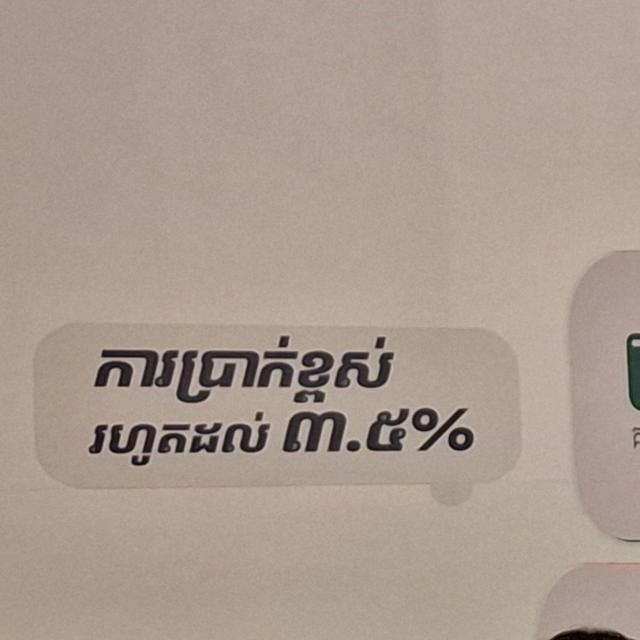1: (52, 401, 506, 491)
Yolov11kh: (66, 329, 465, 408)
